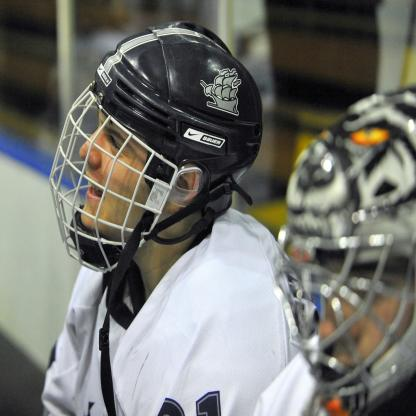Helmet: (48, 17, 264, 416), (263, 82, 416, 416)
